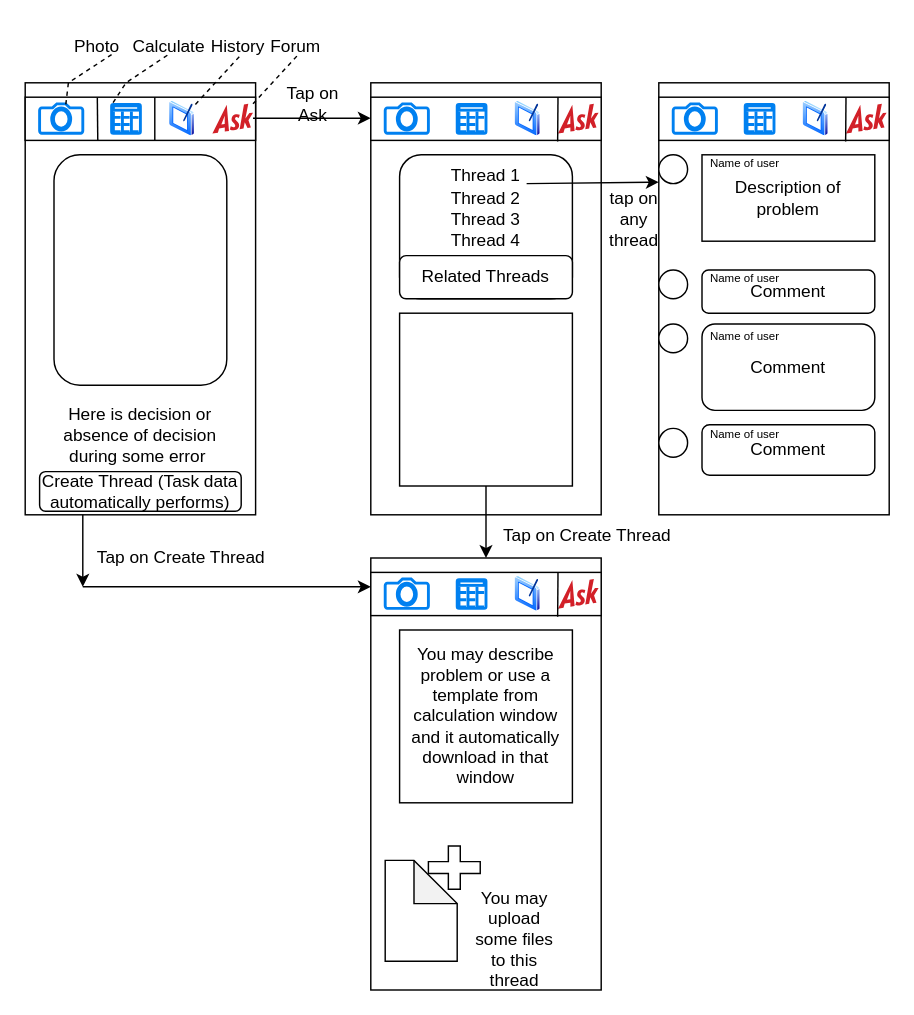
Some shapes in this 914 by 1015 pixel diagram are drawn without their labels. The shapes that lost their labels are listed below. From the top down, each one's centre as x and y in pixels, then its label:
point 140,269: Here is some math task
point 485,399: Create thread: Describe your problem
